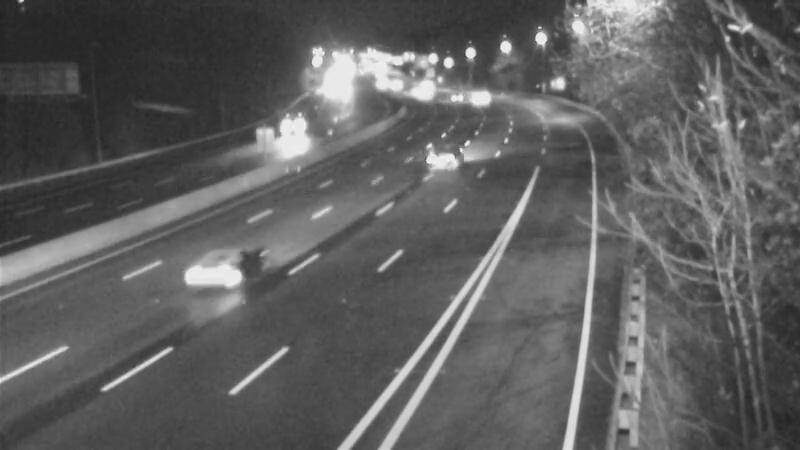vehicle: (407, 116, 487, 196), (180, 234, 260, 314), (396, 64, 446, 114), (456, 76, 506, 126), (256, 111, 306, 161)
